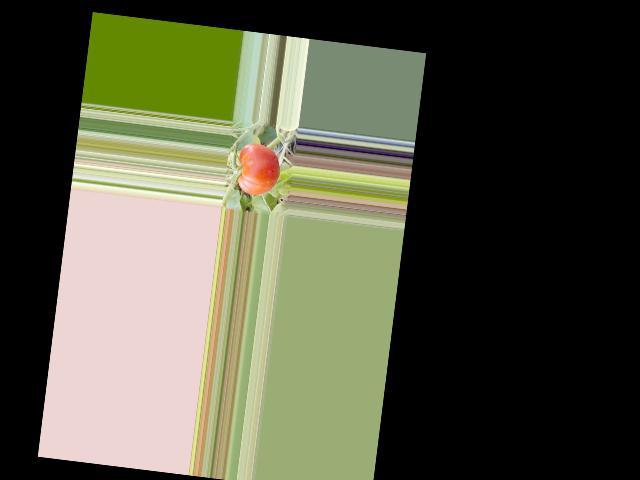tomato: (235, 141, 283, 197)
